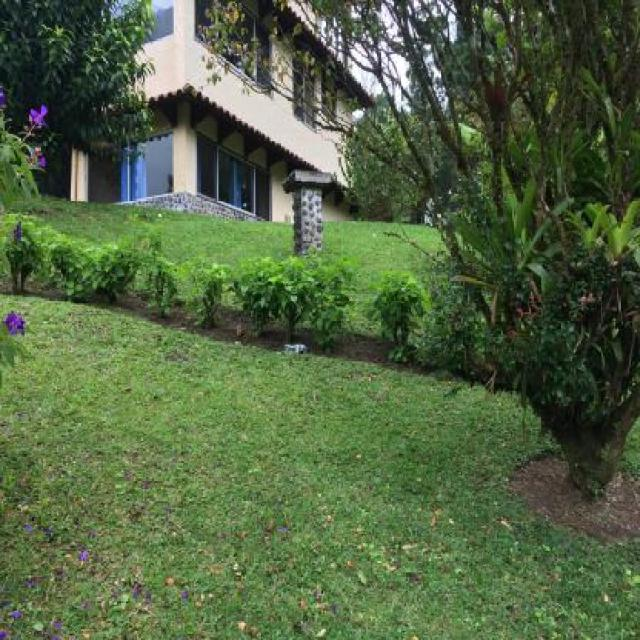plastic: (284, 344, 310, 354)
